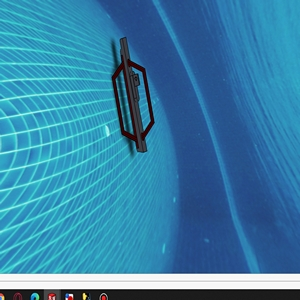submarine: (108, 35, 153, 152)
